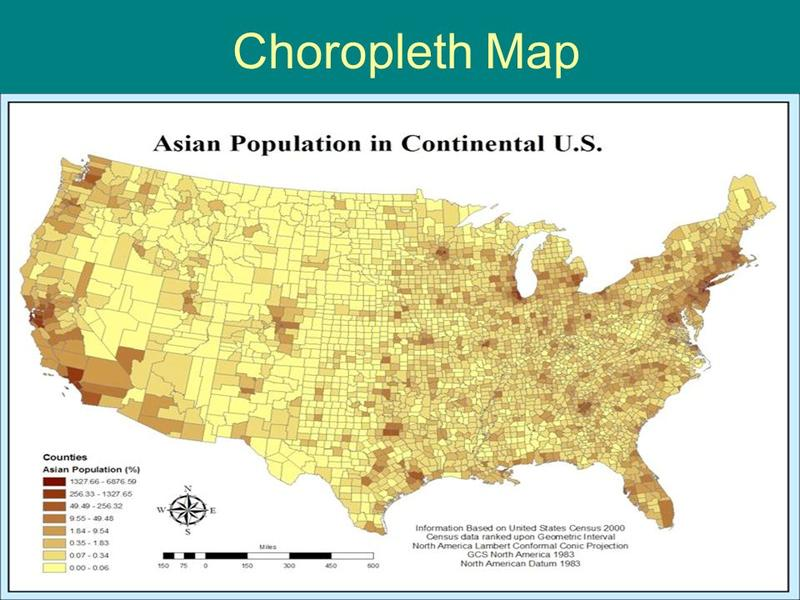legend: (39, 452, 141, 577)
